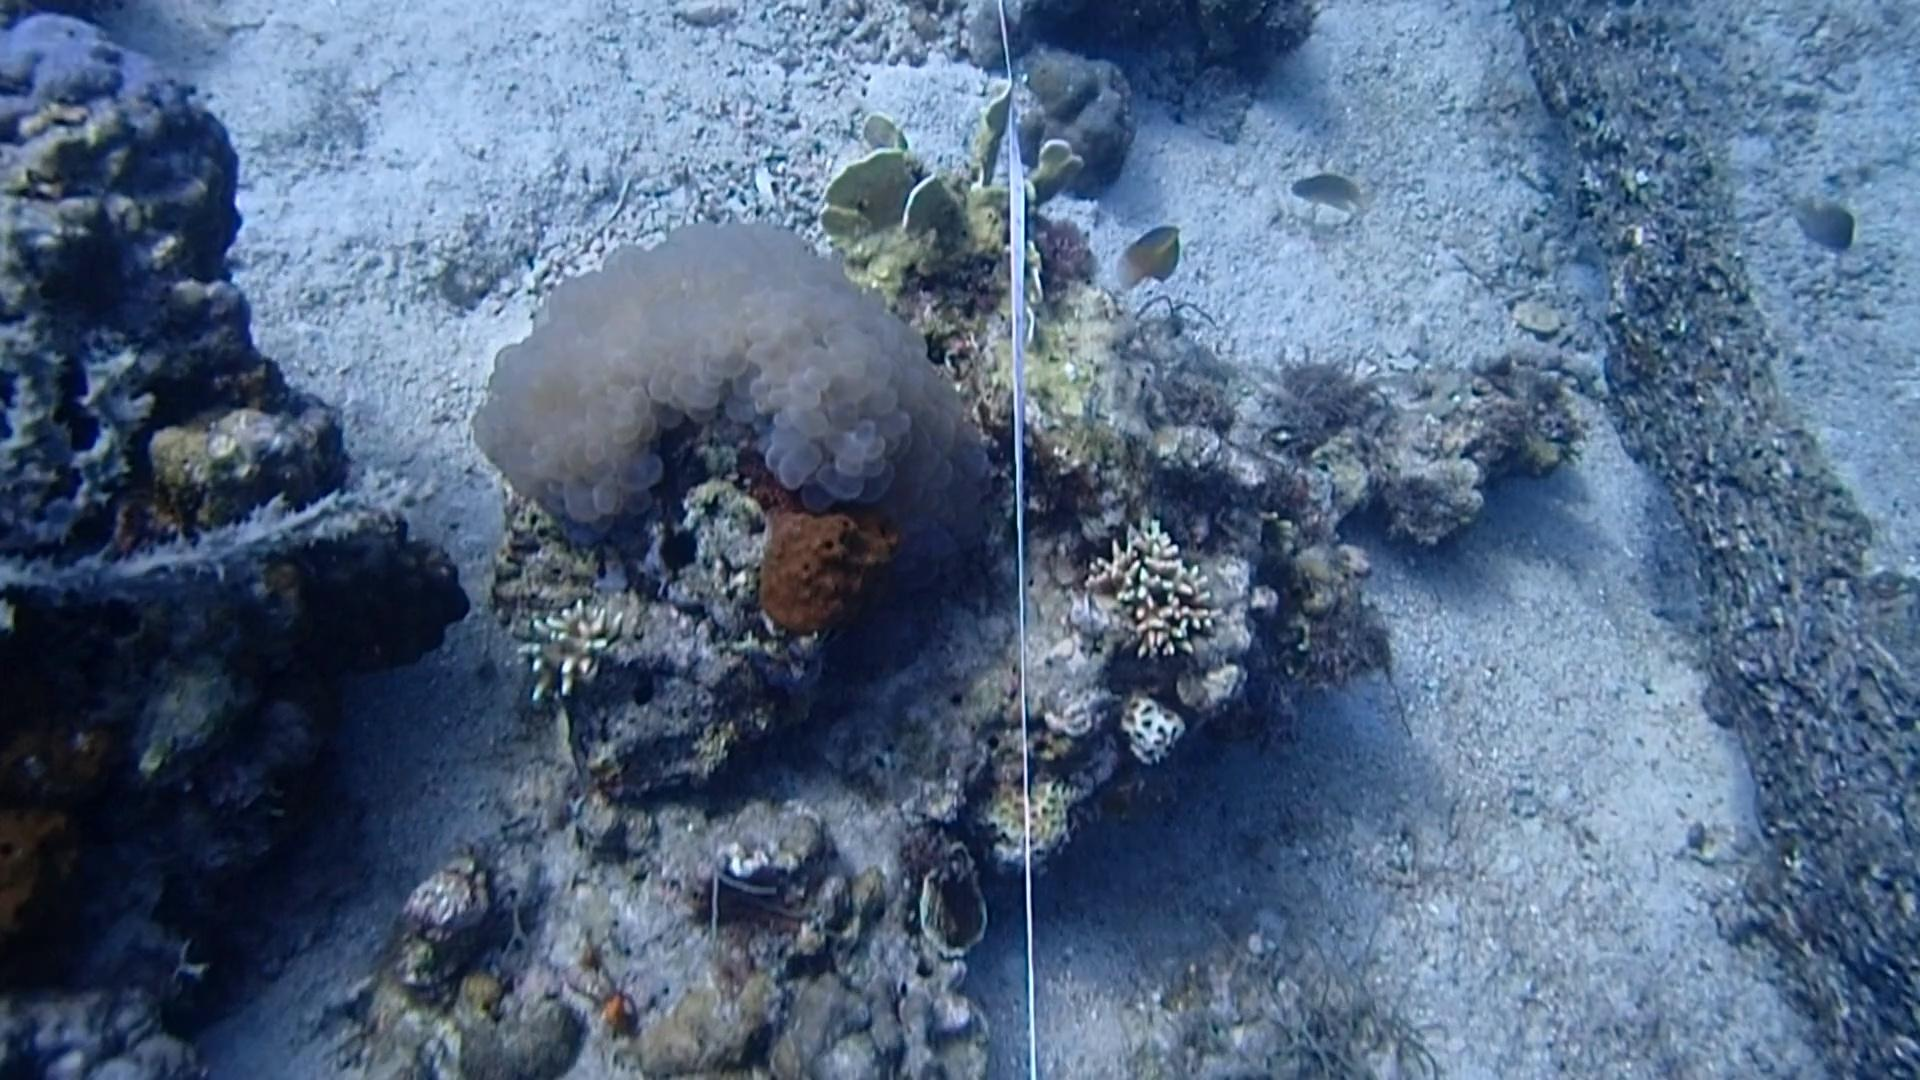Light Fish: (1778, 185, 1871, 265), (1279, 160, 1367, 227)
Yellow-Blue Fish: (1106, 215, 1188, 293)
